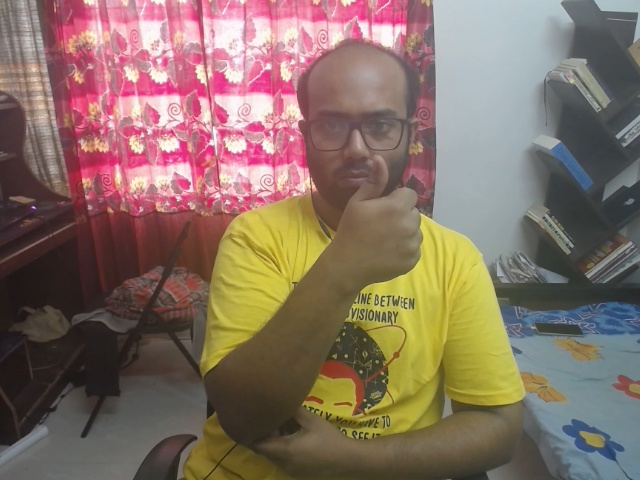six: (320, 153, 439, 304)
